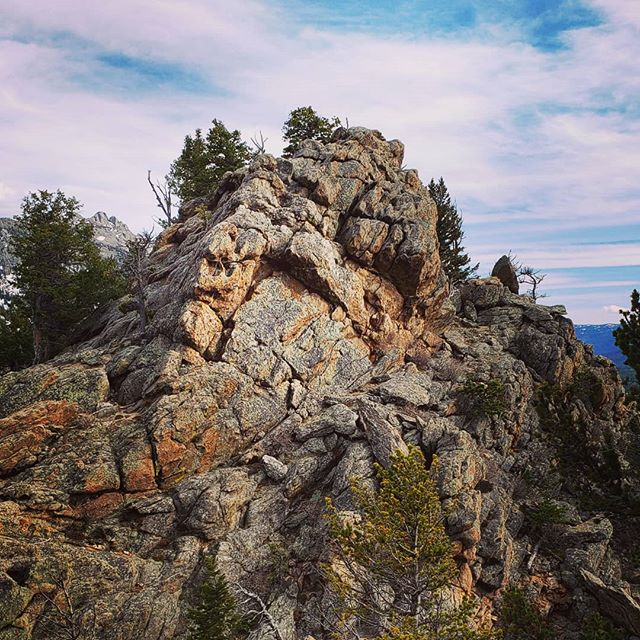mountain: (42, 98, 598, 507)
sky: (1, 1, 640, 131)
